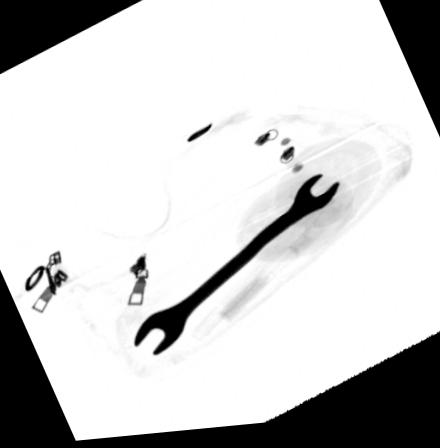Wrench: (132, 176, 343, 362)
